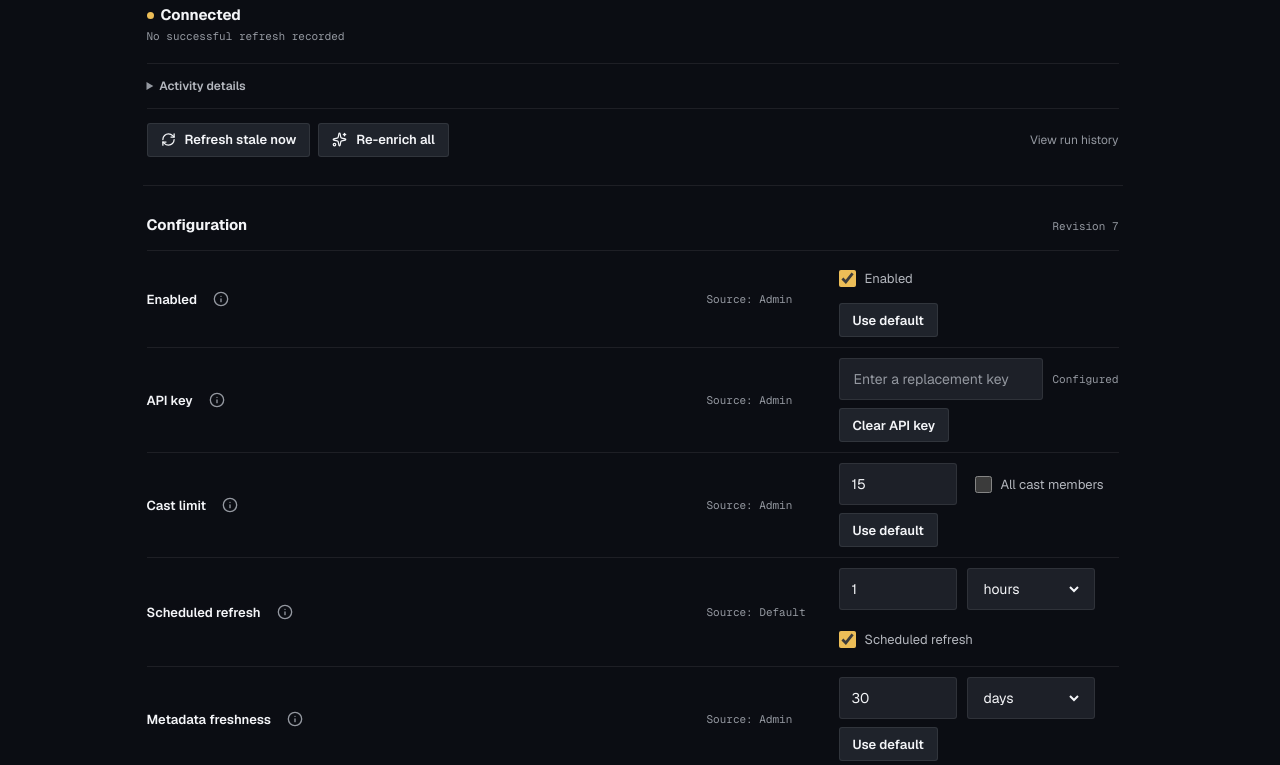
it: TMDB Admin settings › links local zero-value errors to every related control
Replace the text in the number field named "Cast limit" with "0" at [898, 484], box [852,475,944,493]
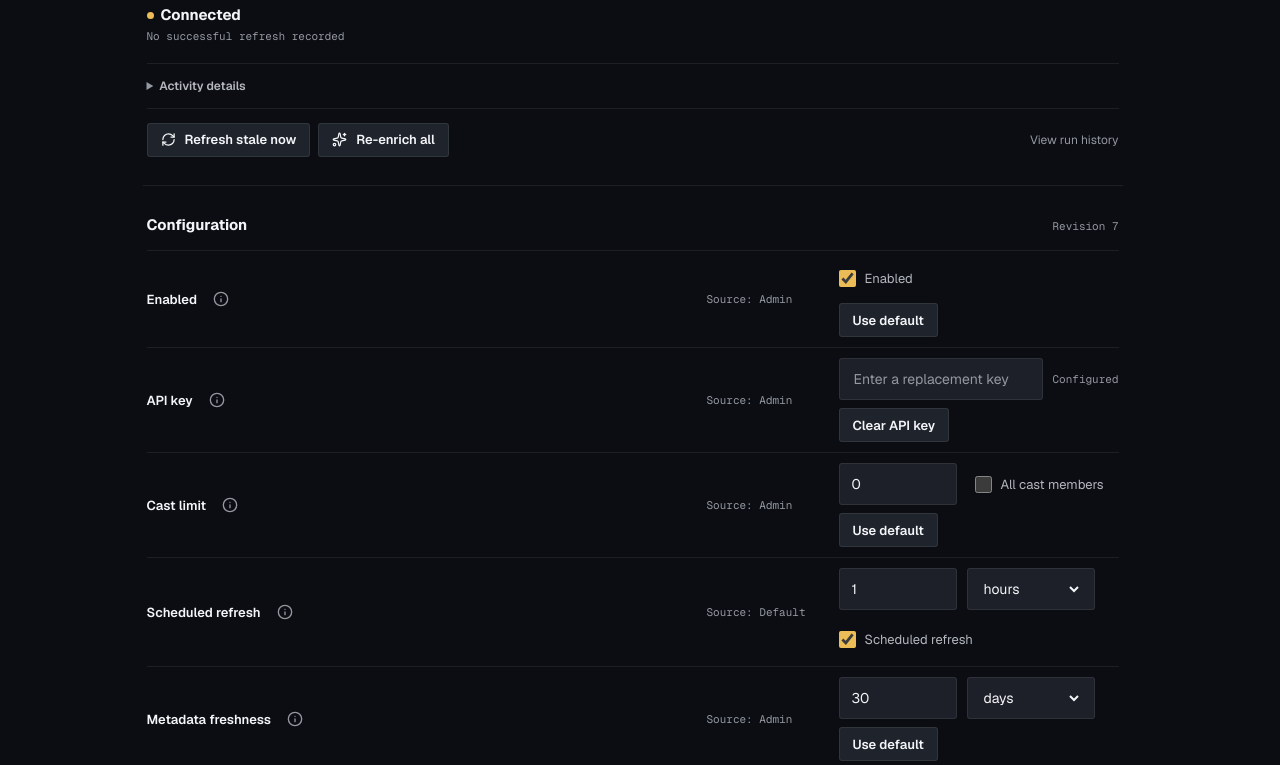
Replace the text in the number field named "Refresh every" with "0" at [898, 589], box [852,580,944,598]
(page scrolled)
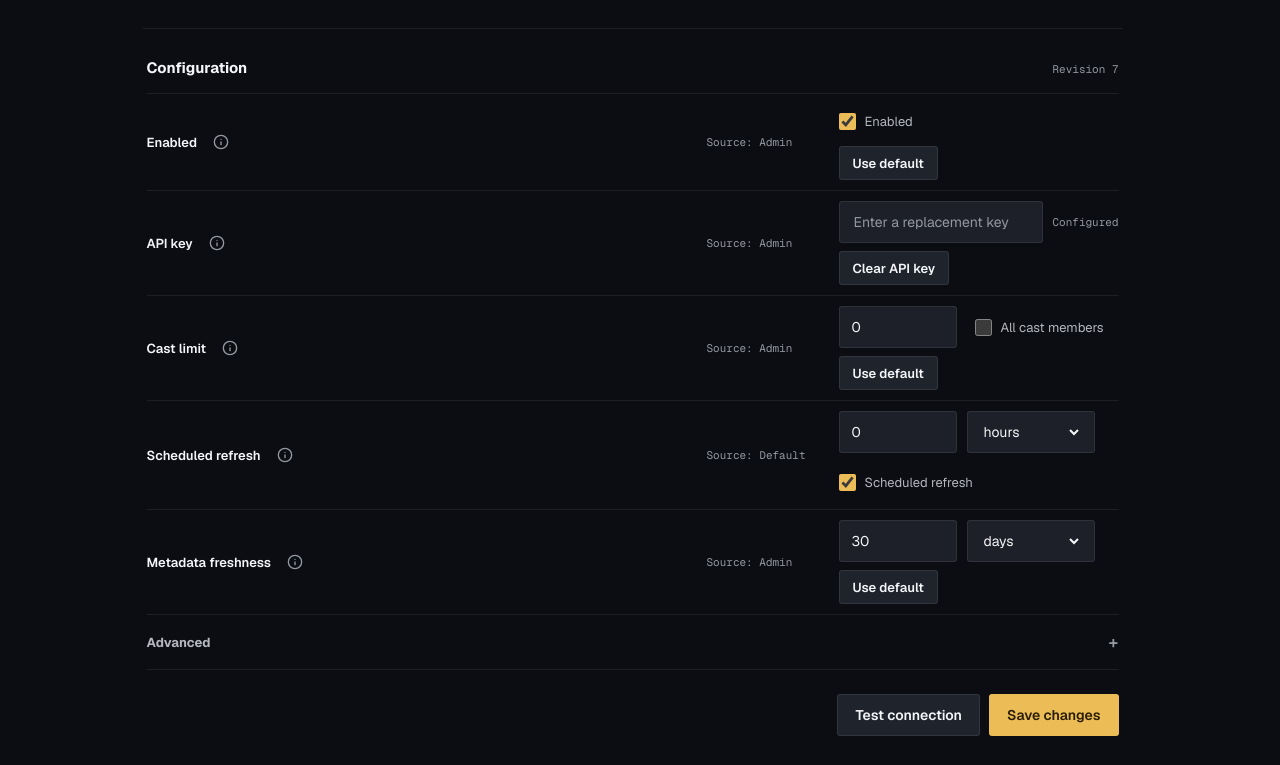
Click the button "Save changes" at [1054, 715], box [989,694,1118,736]
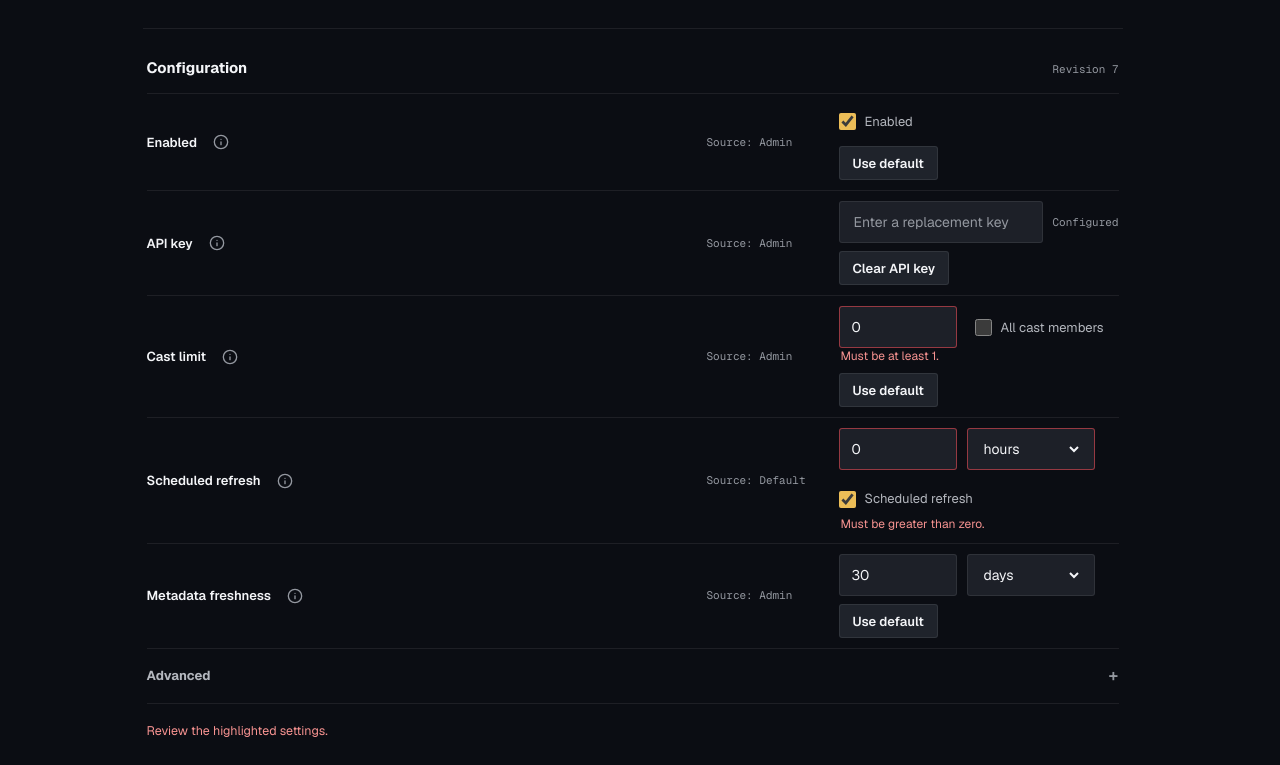
Check: the text "Must be at least 1." is shown, box [840,348,939,364]
Check: the text "Must be greater than zero." is shown, box [840,516,984,532]
